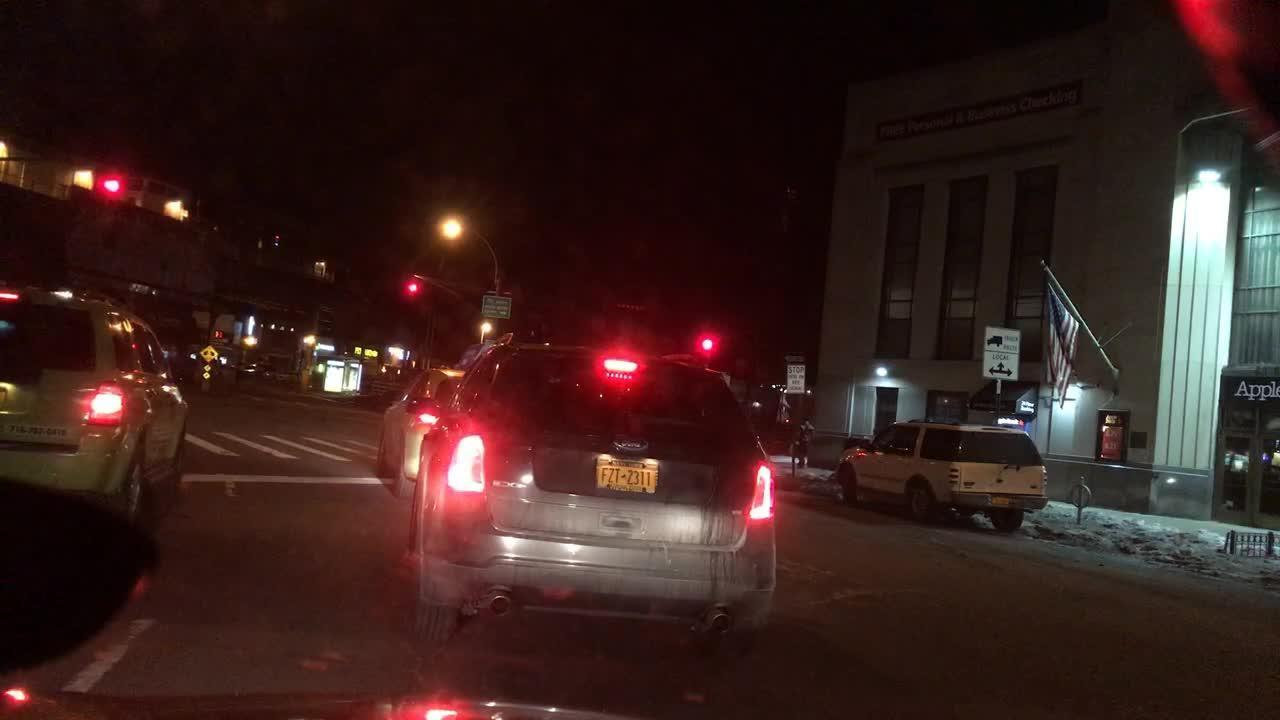ford: (608, 427, 650, 458)
